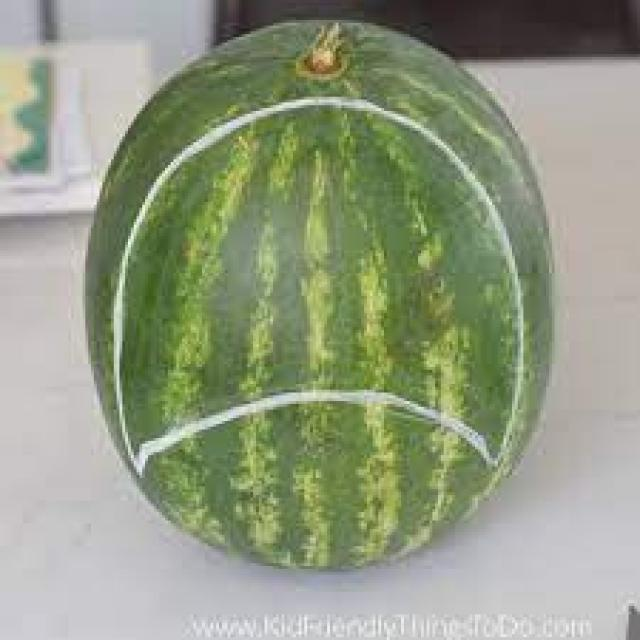watermelon: (80, 17, 554, 569)
